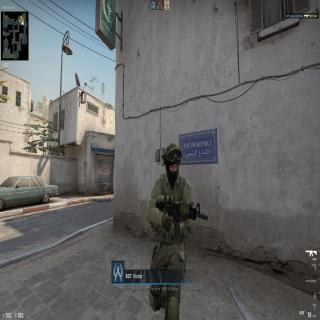CT-Head: (162, 138, 183, 182)
